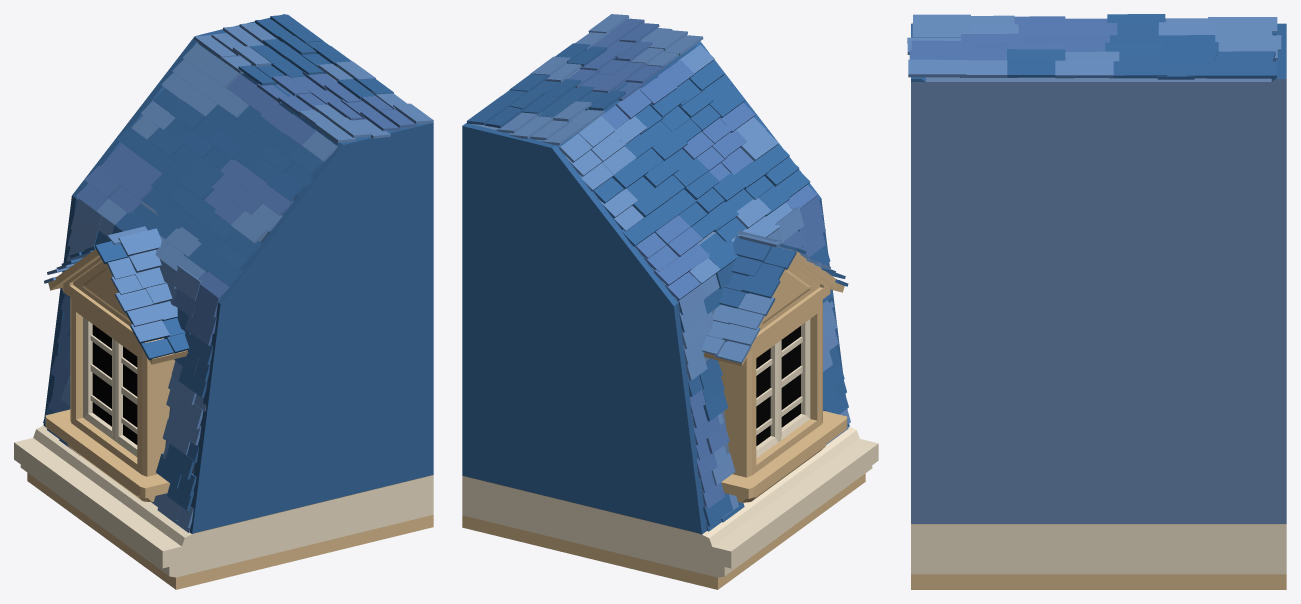
Rendered from Roof_Side_3.fbx.
3 renders of one model, left to right at view 1: azimuth 30°, elevation 25°; view 2: azimuth 150°, elevation 25°; view 3: azimuth 270°, elevation 25°, orthographic. The views are drawn at different scales.
Visible parts, largest first — view 1: Roof_Side_3; view 2: Roof_Side_3; view 3: Roof_Side_3.
Part boxes in pixels (x1,y1,x2,y2): Roof_Side_3: (14, 14, 433, 589); Roof_Side_3: (462, 14, 878, 589); Roof_Side_3: (907, 14, 1286, 589).
Bounding box in the file's own units: 210 × 202 × 305.
